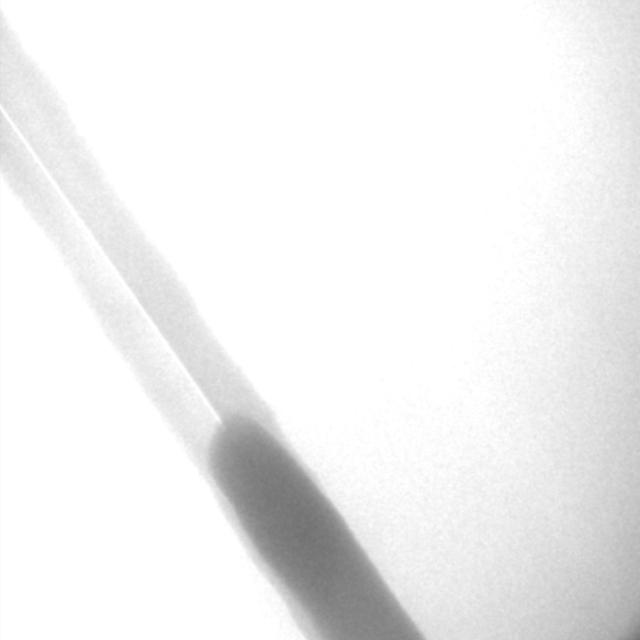broken arc: (1, 107, 221, 424)
